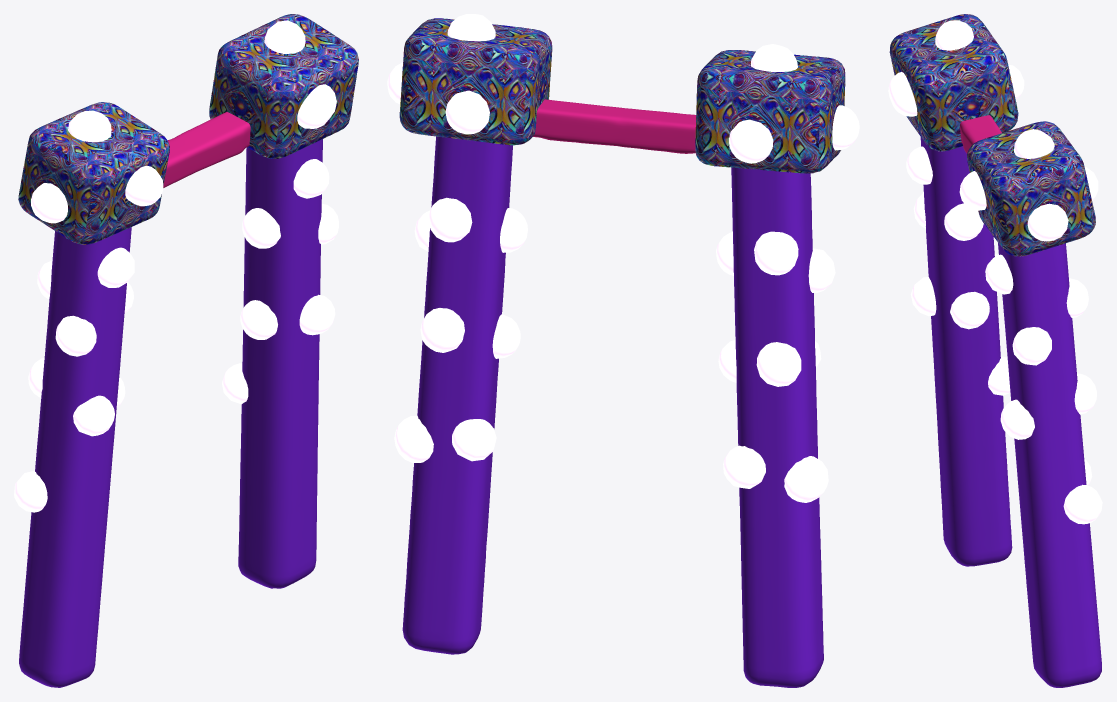
File: stop.glb
3 views of the same model, side by side, from view 1: azimuth 30°, elevation 25°; view 2: azimuth 150°, elevation 25°; view 3: azimuth 270°, elevation 25° (orthographic). The views are drawn at different scales.
Parts seen in each view (by area): view 1: Retopo_inst_19; view 2: Retopo_inst_19; view 3: Retopo_inst_19.
Part boxes in pixels (box(x1,y1,x2,y2)): Retopo_inst_19: box(14, 14, 358, 687); Retopo_inst_19: box(387, 14, 859, 687); Retopo_inst_19: box(888, 14, 1102, 687).
Size of the model in its own units: 11.99 by 17.63 by 6.28.
4 materials, 1 textured.
